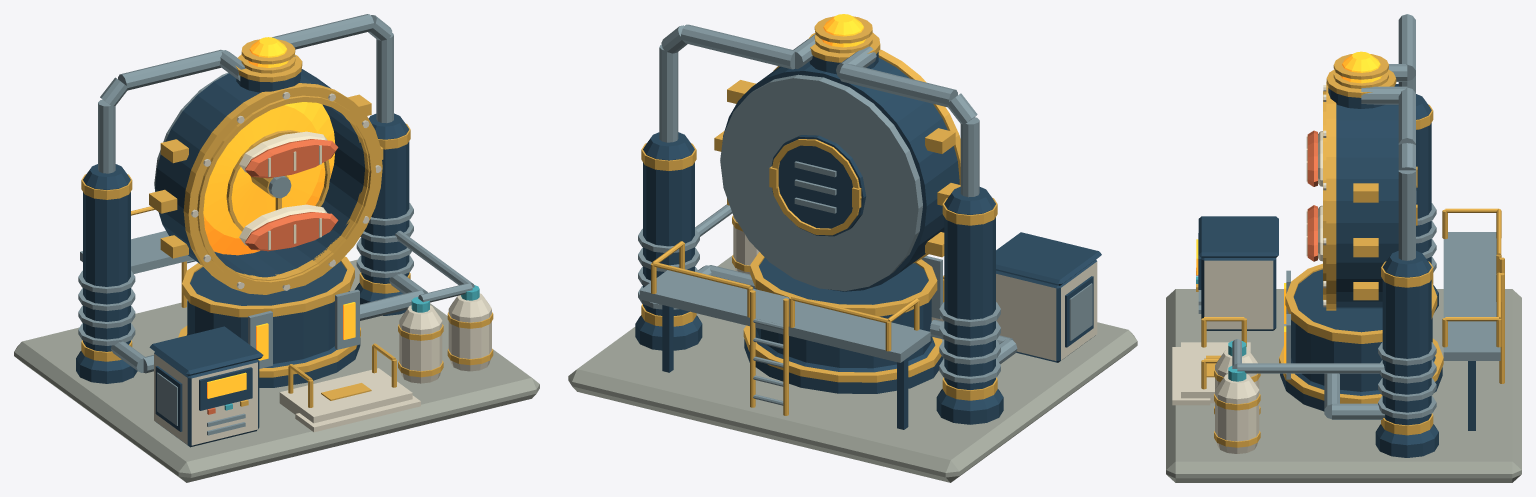
The model's file is fusion-lv3.glb.
3 renders of one model, left to right at view 1: azimuth 30°, elevation 25°; view 2: azimuth 150°, elevation 25°; view 3: azimuth 270°, elevation 25°, orthographic. The views are drawn at different scales.
Visible parts, largest first — view 1: Fusion_L3, Twin_Nigiri_Rotor.002; view 2: Fusion_L3; view 3: Fusion_L3, Twin_Nigiri_Rotor.002.
Boxes of the visible parts, <box> form: Fusion_L3: <box>14,14,539,482</box>; Twin_Nigiri_Rotor.002: <box>226,130,338,251</box>; Fusion_L3: <box>568,14,1137,482</box>; Fusion_L3: <box>1166,14,1521,482</box>; Twin_Nigiri_Rotor.002: <box>1306,130,1322,261</box>.
Size of the model in its own units: 5.4 by 4.76 by 4.5.
